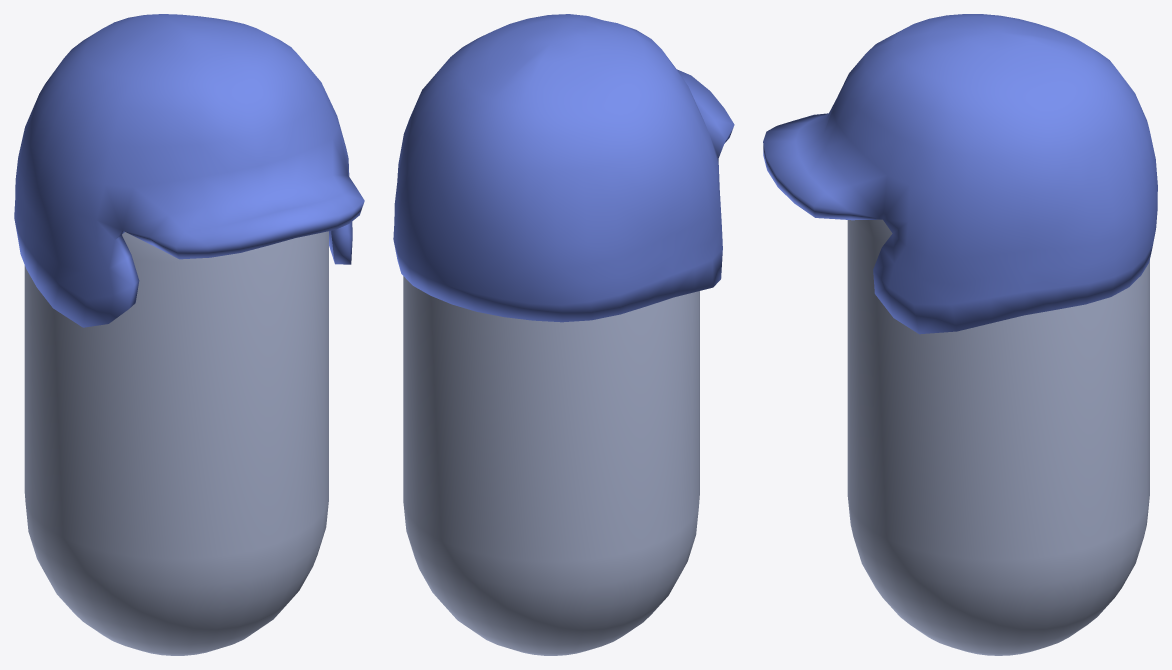
Rendered from runner.fbx.
3 renders of one model, left to right at view 1: azimuth 30°, elevation 25°; view 2: azimuth 150°, elevation 25°; view 3: azimuth 270°, elevation 25°, orthographic. The views are drawn at different scales.
Visible parts, largest first — view 1: Sphere, Sphere.001; view 2: Sphere, Sphere.001; view 3: Sphere, Sphere.001.
Boxes of the visible parts, x1,y1,x2,y2 form: Sphere: (24,231,328,655); Sphere.001: (14,14,364,327); Sphere: (403,276,699,655); Sphere.001: (393,14,734,322); Sphere: (847,219,1149,655); Sphere.001: (763,14,1157,334).
Size of the model in its own units: 93.53 by 190 by 112.
